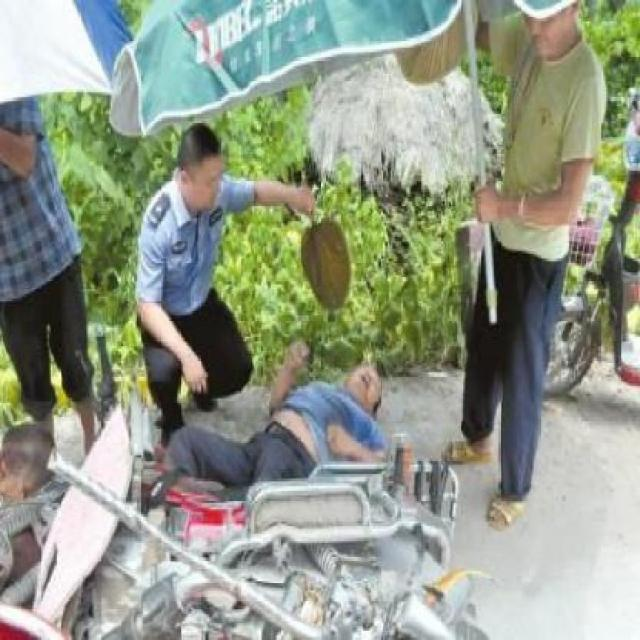fall: (153, 333, 404, 504)
